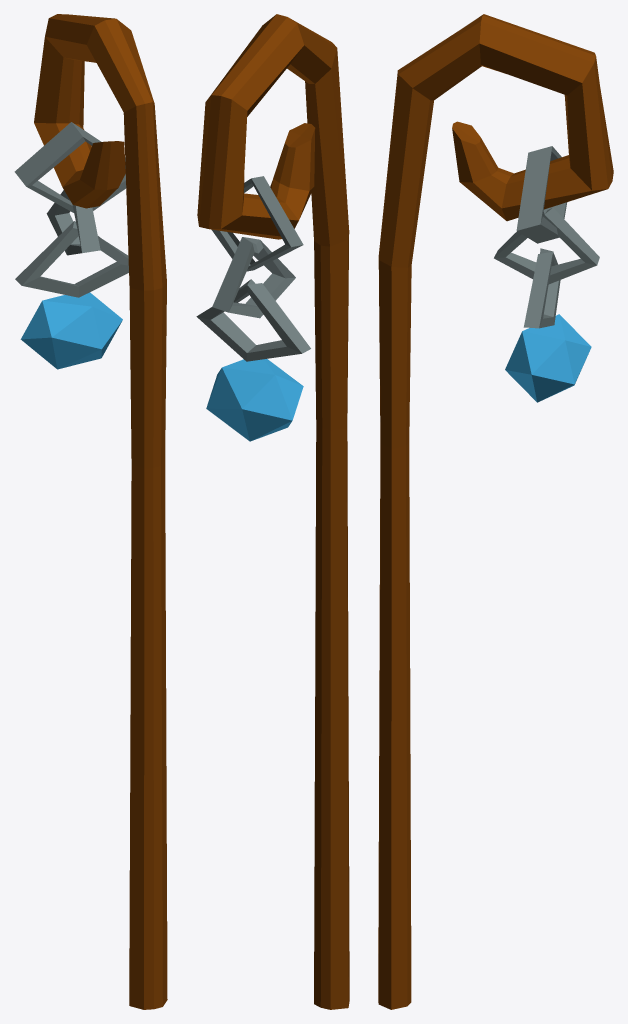
File: Staff6.fbx
3 views of the same model, side by side, from view 1: azimuth 30°, elevation 25°; view 2: azimuth 150°, elevation 25°; view 3: azimuth 270°, elevation 25° (orthographic). The views are drawn at different scales.
Parts seen in each view (by area): view 1: staff1.001; view 2: staff1.001; view 3: staff1.001.
Boxes of the visible parts, x1,y1,x2,y2 form: staff1.001: (14,14,167,1009); staff1.001: (196,14,349,1009); staff1.001: (378,14,613,1009).
Bounding box in the file's own units: 0.2197 × 0.3912 × 1.81.
